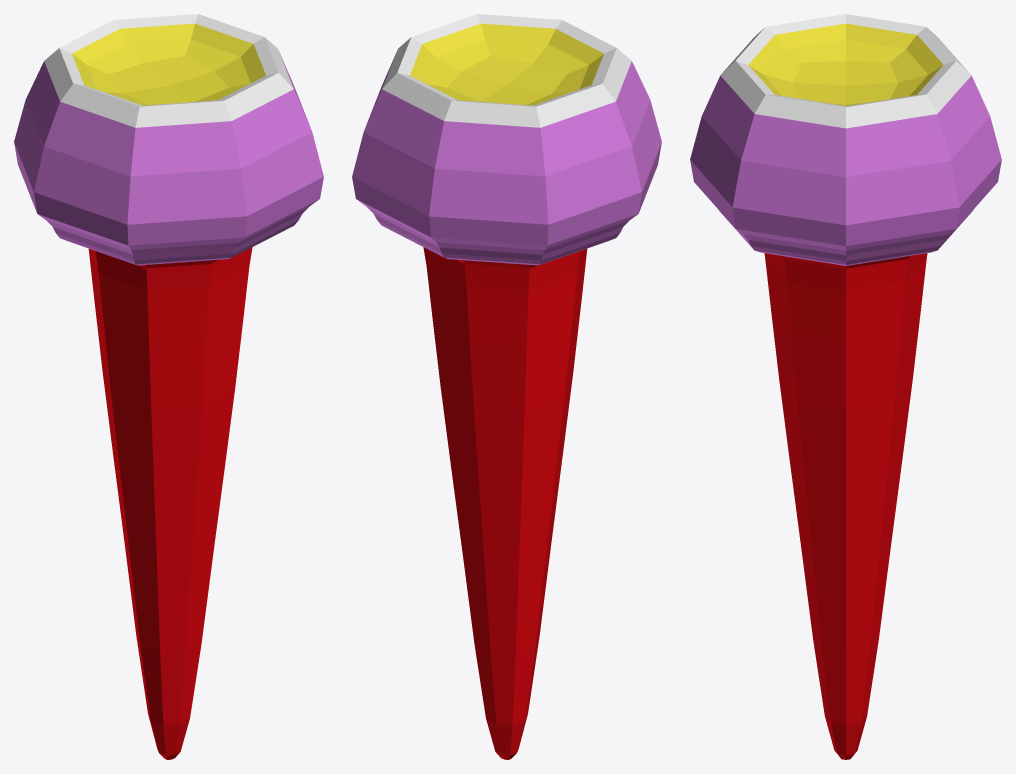
The model's file is torch.fbx.
3 renders of one model, left to right at view 1: azimuth 30°, elevation 25°; view 2: azimuth 150°, elevation 25°; view 3: azimuth 270°, elevation 25°, orthographic.
Parts seen in each view (by area): view 1: Torch; view 2: Torch; view 3: Torch.
Boxes of the visible parts, x1,y1,x2,y2 form: Torch: [14, 14, 323, 759]; Torch: [352, 14, 661, 759]; Torch: [690, 14, 1001, 759].
Size of the model in its own units: 81.03 by 200 by 81.03.
